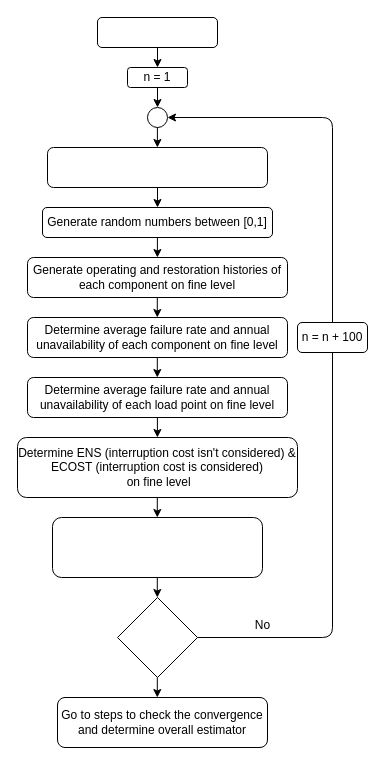
This 385x765 diagram has some shape labels left out. The box of each missing label's shape, as (x1, y1, x2, y2) in pixels:
Calculate sum of the ENS and ECOST values on fine level: (52, 516, 262, 578)
Construct SDE model of TTF of each component on fine level: (46, 146, 268, 188)
n > N: (116, 596, 198, 678)
Set Initial Value: (96, 16, 218, 48)
